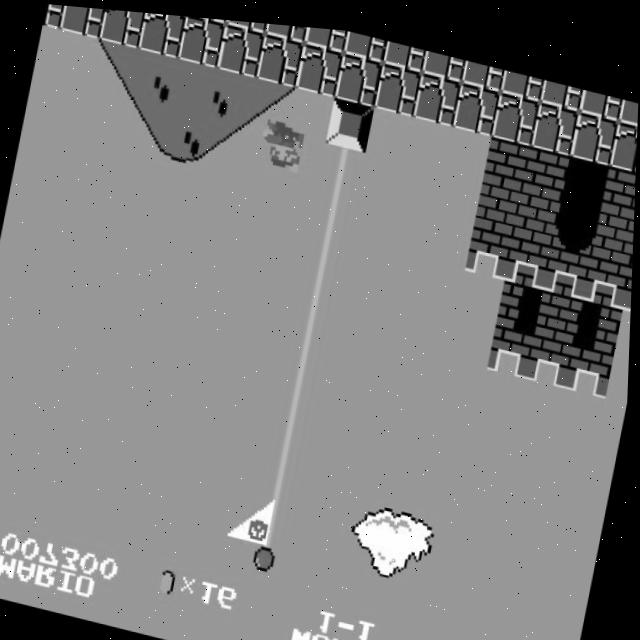1- brick_block: (601, 153, 637, 208)
11- little_mario: (255, 113, 307, 171)
17- undestructible_block: (452, 73, 502, 129), (216, 19, 266, 74), (295, 37, 345, 92), (334, 46, 384, 101), (570, 100, 620, 155), (531, 91, 580, 147), (256, 28, 305, 83), (374, 55, 423, 110), (413, 64, 462, 119), (492, 82, 541, 137), (177, 12, 226, 65), (138, 10, 187, 56), (98, 7, 147, 47), (59, 4, 108, 38), (610, 109, 638, 163), (343, 25, 388, 57), (382, 33, 427, 65), (422, 43, 467, 75), (461, 51, 506, 83), (500, 61, 545, 93), (540, 69, 585, 101), (579, 79, 624, 111), (303, 21, 348, 47), (265, 19, 309, 39), (618, 87, 639, 118), (42, 3, 67, 29), (225, 16, 269, 29)
7- goal_pole: (241, 538, 291, 593), (275, 359, 325, 414), (283, 314, 333, 369), (317, 136, 367, 191), (258, 449, 308, 503), (266, 404, 316, 458), (250, 493, 299, 548), (301, 225, 350, 280), (292, 270, 341, 324), (309, 181, 358, 235)
9- hard_block: (326, 91, 376, 146)
